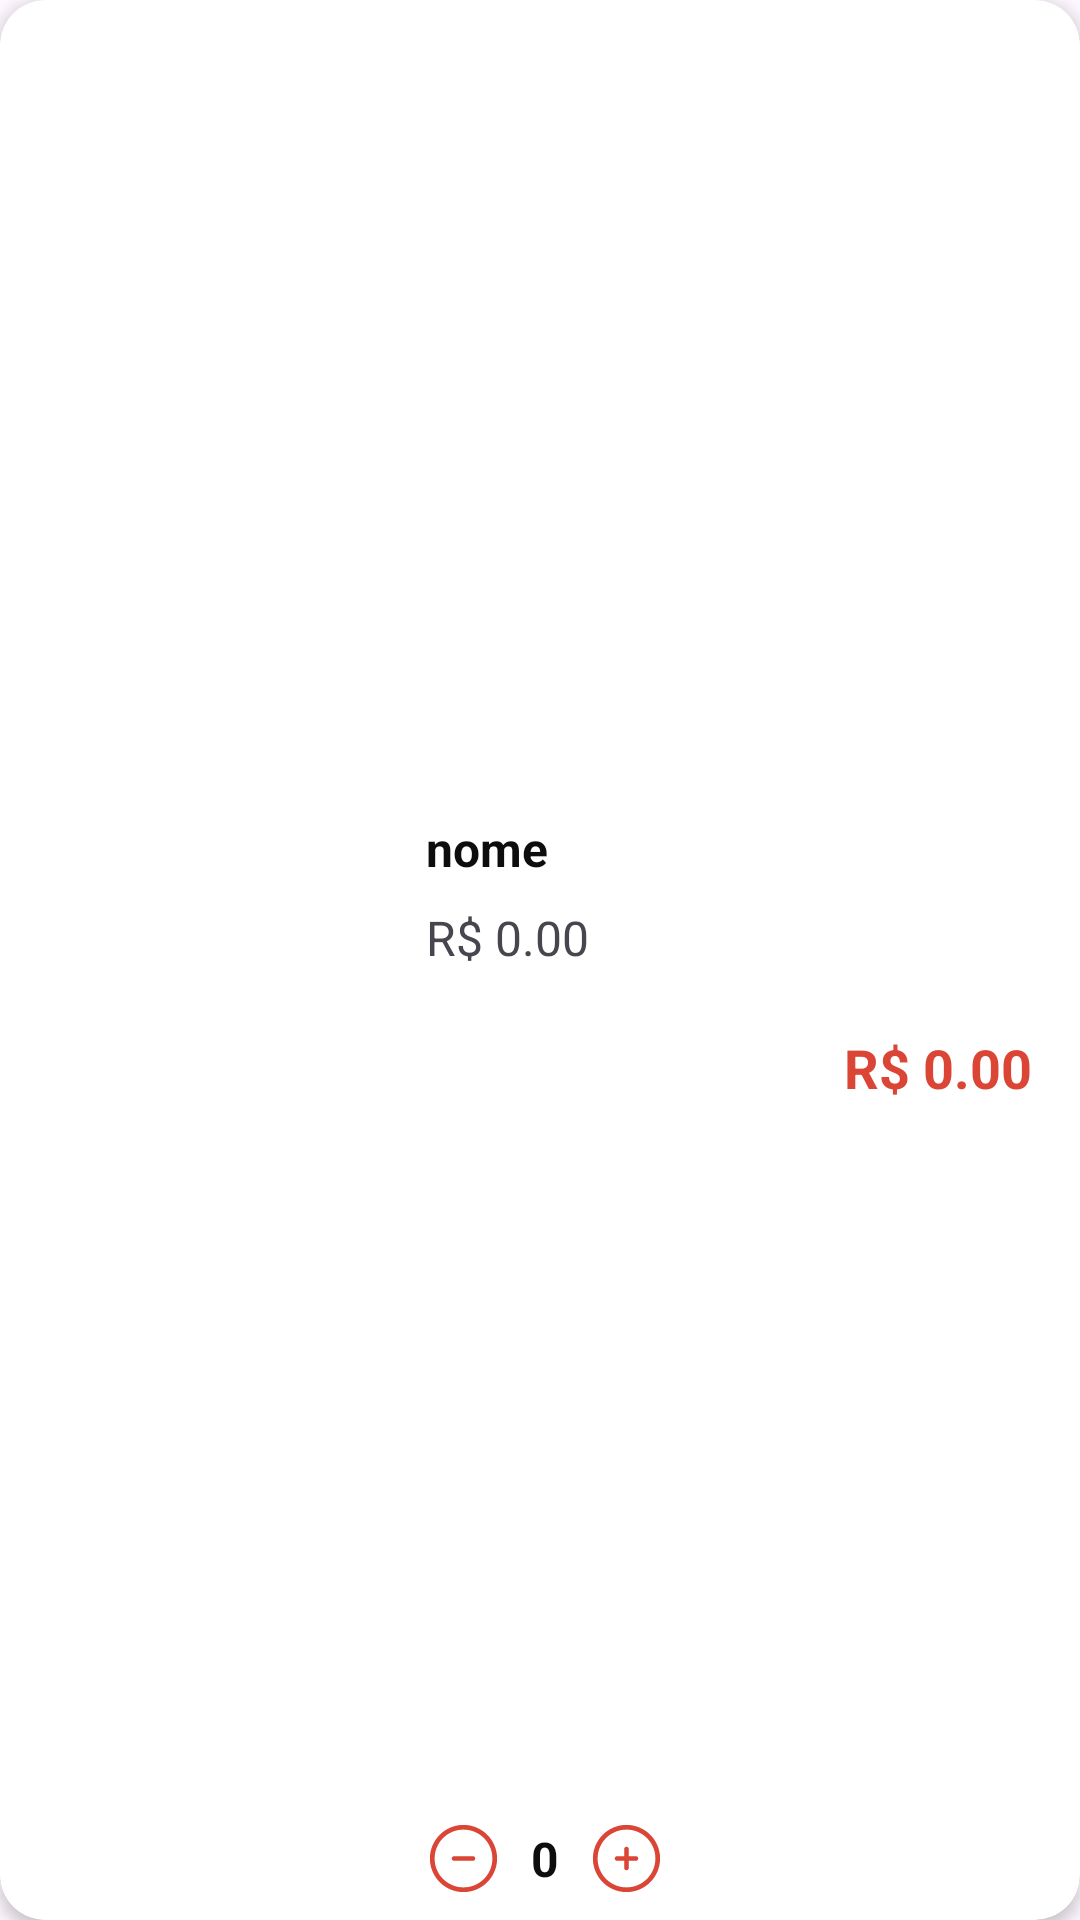

Named icons in this screenshot (1080×1920) and their centers, point (x, y):
add circle: point (626, 1858)
remove circle: point (463, 1858)
